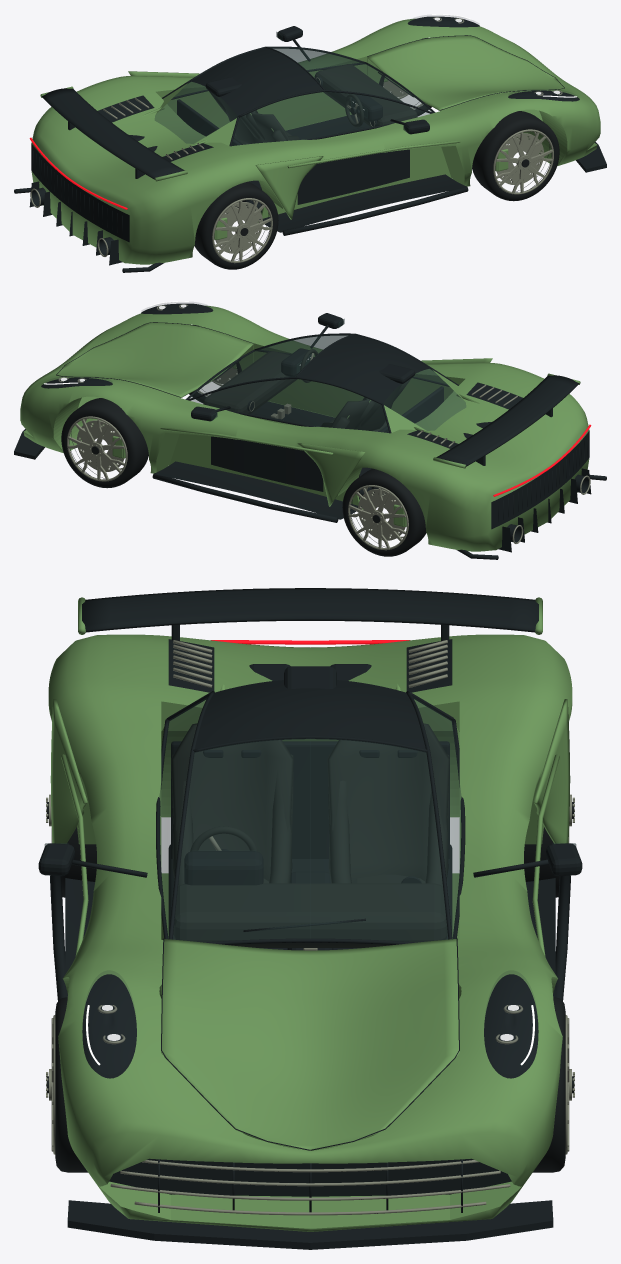
File: car_verdant.glb
3 renders of one model, top to bottom at view 1: azimuth 30°, elevation 25°; view 2: azimuth 150°, elevation 25°; view 3: azimuth 270°, elevation 25°, orthographic. The views are drawn at different scales.
Parts seen in each view (by area): view 1: CarBody, Hood, Door_Right, Wheel_Front_Right, Wheel_Rear_Right, RearWing, Door_Left, Wheel_Front_Left; view 2: CarBody, Hood, Door_Left, Wheel_Front_Left, Wheel_Rear_Left, RearWing, Door_Right, Wheel_Front_Right; view 3: CarBody, Hood, RearWing, Door_Left, Door_Right, Wheel_Front_Left, Wheel_Front_Right, Wheel_Rear_Left, Wheel_Rear_Right.
Part boxes in pixels (left/top/right/bottom): CarBody: left=14, top=14, right=606, bottom=272; Hood: left=367, top=35, right=564, bottom=110; Door_Right: left=229, top=89, right=433, bottom=146; Wheel_Front_Right: left=472, top=111, right=559, bottom=201; Wheel_Rear_Right: left=194, top=181, right=278, bottom=269; RearWing: left=40, top=86, right=187, bottom=181; Door_Left: left=162, top=26, right=366, bottom=99; Wheel_Front_Left: left=379, top=38, right=431, bottom=115; CarBody: left=14, top=301, right=606, bottom=559; Hood: left=56, top=322, right=253, bottom=397; Door_Left: left=187, top=376, right=391, bottom=433; Wheel_Front_Left: left=61, top=398, right=148, bottom=488; Wheel_Rear_Left: left=342, top=468, right=426, bottom=556; RearWing: left=433, top=373, right=580, bottom=468; Door_Right: left=254, top=313, right=458, bottom=386; Wheel_Front_Right: left=189, top=325, right=241, bottom=402; CarBody: left=48, top=634, right=572, bottom=1249; Hood: left=161, top=938, right=459, bottom=1150; RearWing: left=78, top=588, right=542, bottom=641; Door_Left: left=406, top=691, right=582, bottom=939; Door_Right: left=38, top=691, right=214, bottom=939; Wheel_Front_Left: left=533, top=997, right=574, bottom=1172; Wheel_Front_Right: left=46, top=997, right=87, bottom=1172; Wheel_Rear_Left: left=524, top=794, right=574, bottom=897; Wheel_Rear_Right: left=46, top=794, right=96, bottom=897.
Bounding box in the file's own units: 4.81 × 1.23 × 2.26.
